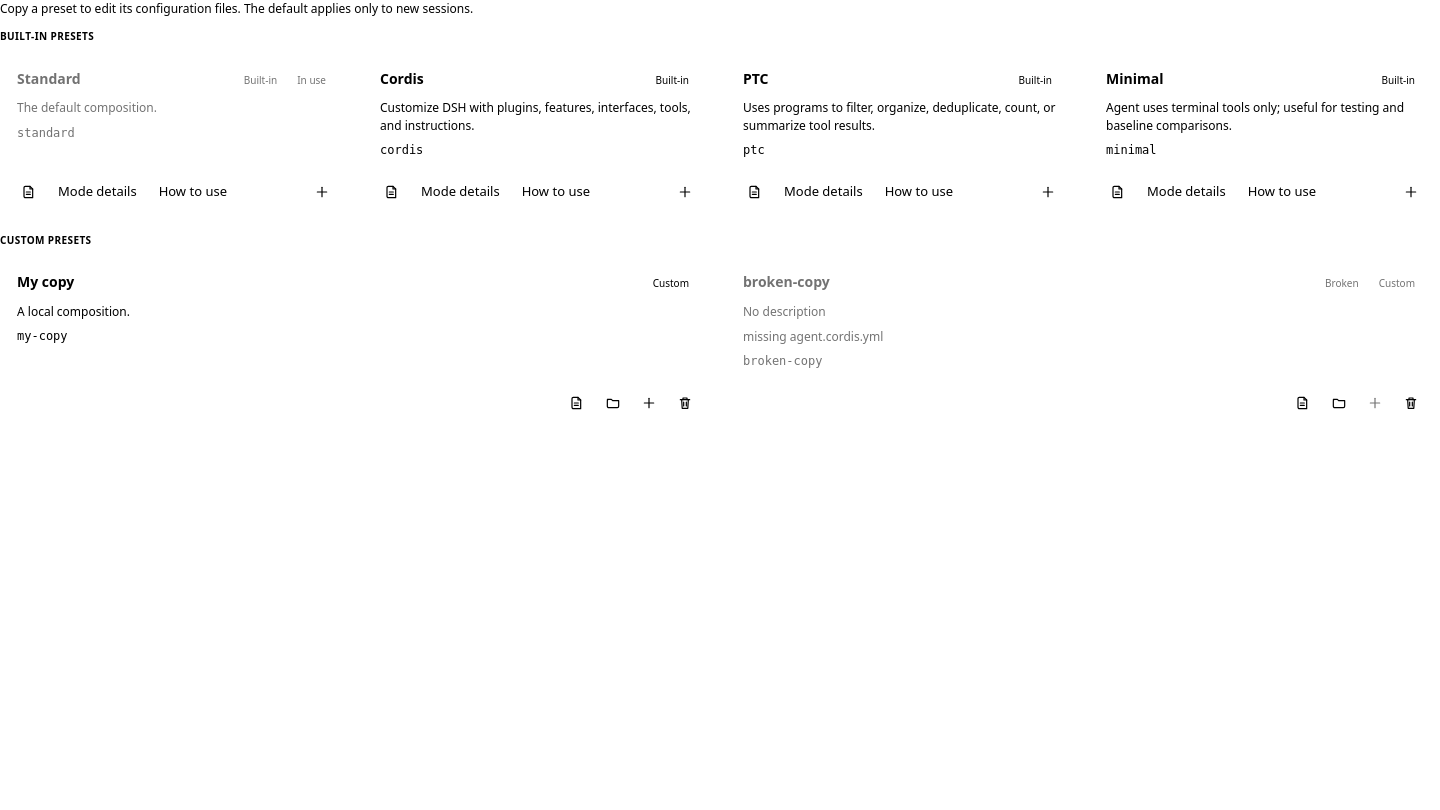
Scenario: PresetManager copy dialog › blocks an invalid or taken id client-side and never sends it
The width and height of the screenshot is (1440, 810).
Expected: the heading "Built-in presets" is shown, [0,29,94,43]
Click the button named "Copy preset: Standard": coordinates (322, 192) [306,176,338,208]
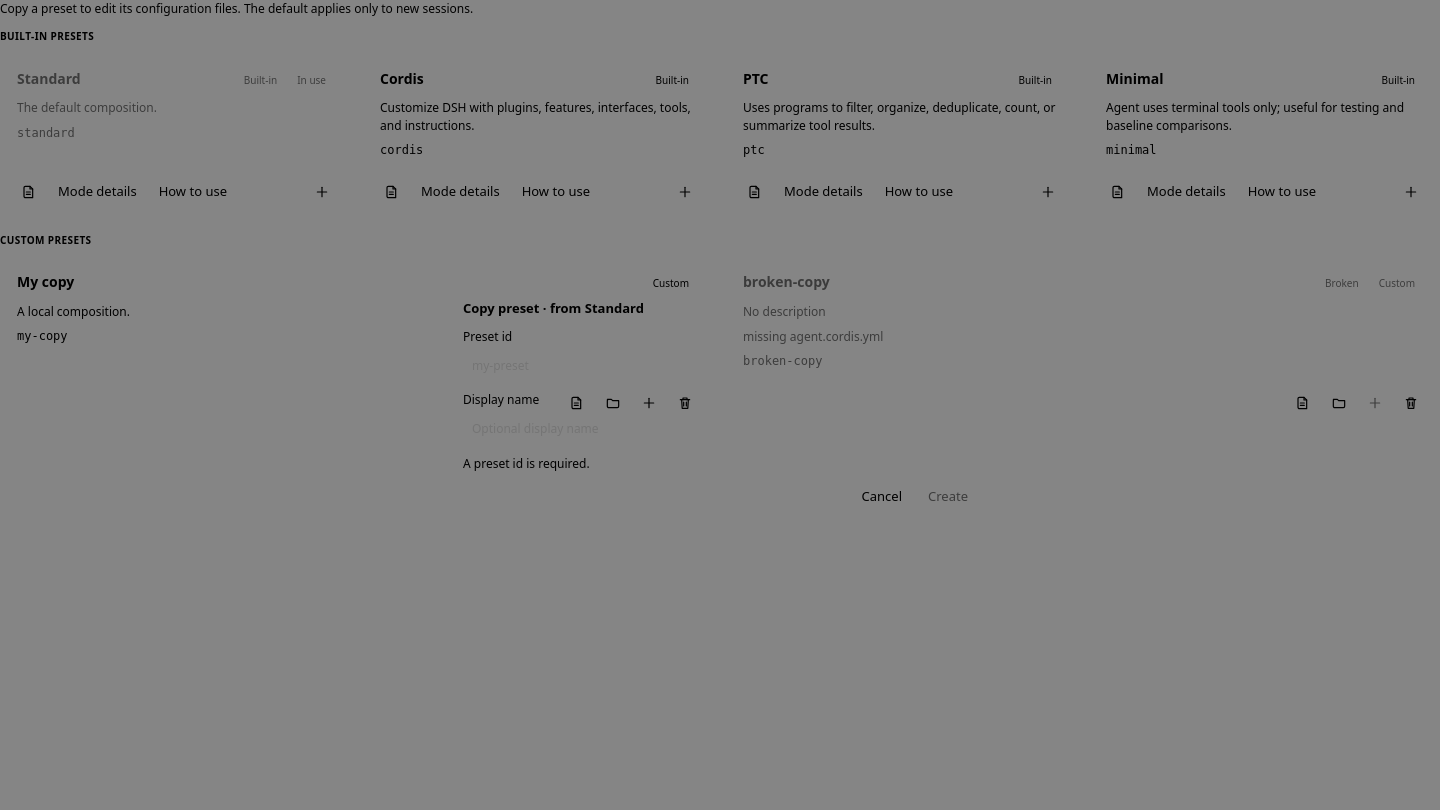
Expected: the dialog "Copy preset" is shown, [450,286,990,524]
Expected: the button "Create" is disabled, [919,482,977,511]
Invalid characters.
In the field labelled "Preset id": coordinates (720, 365) [463,349,977,381], type "My Copy!"
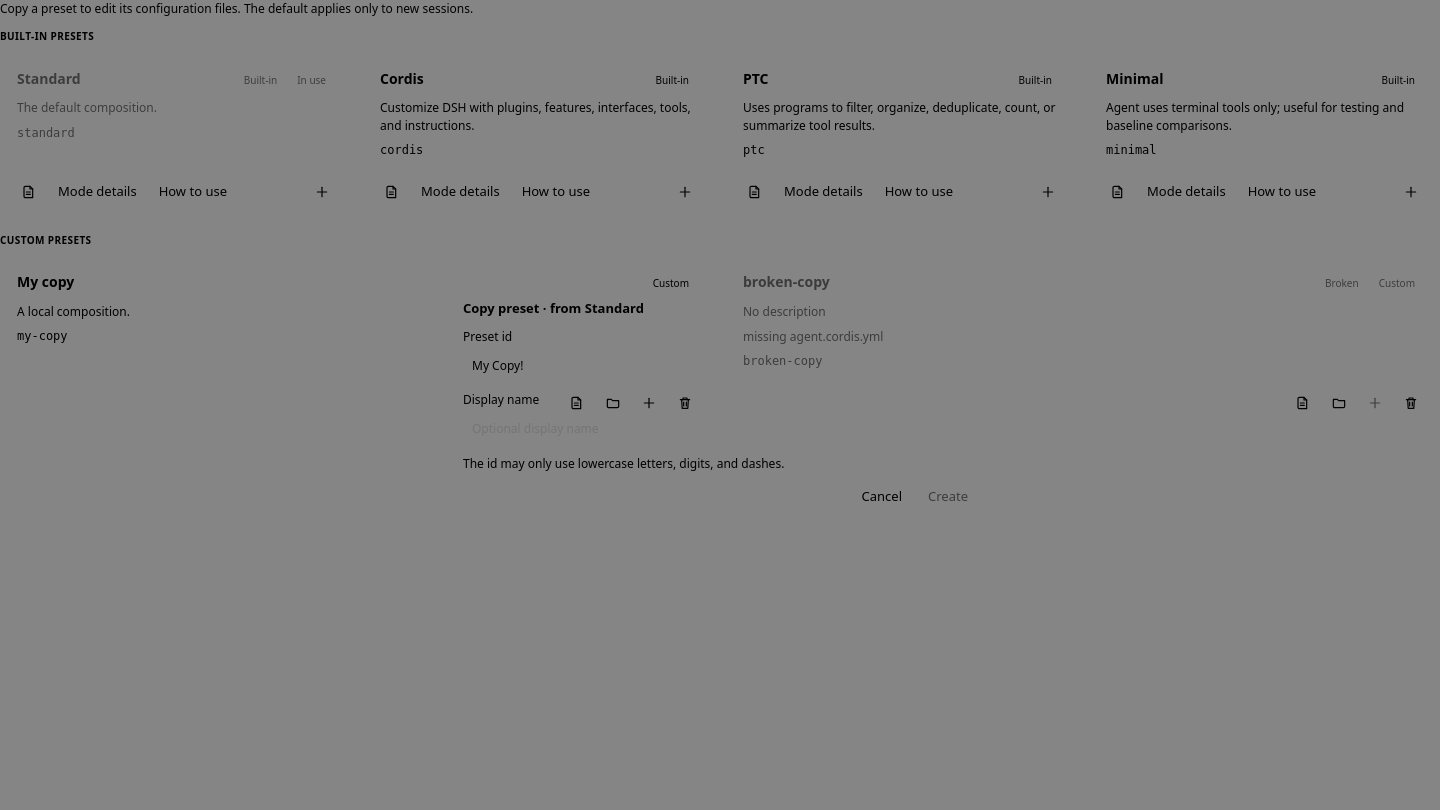
Expected: the button "Create" is disabled, [919,482,977,511]
Expected: the message shows "lowercase letters, digits, and dashes", [463,455,784,472]
An id already on the roster.
Replace the text in the field labelled "Preset id" with "cordis": coordinates (720, 365) [463,349,977,381]
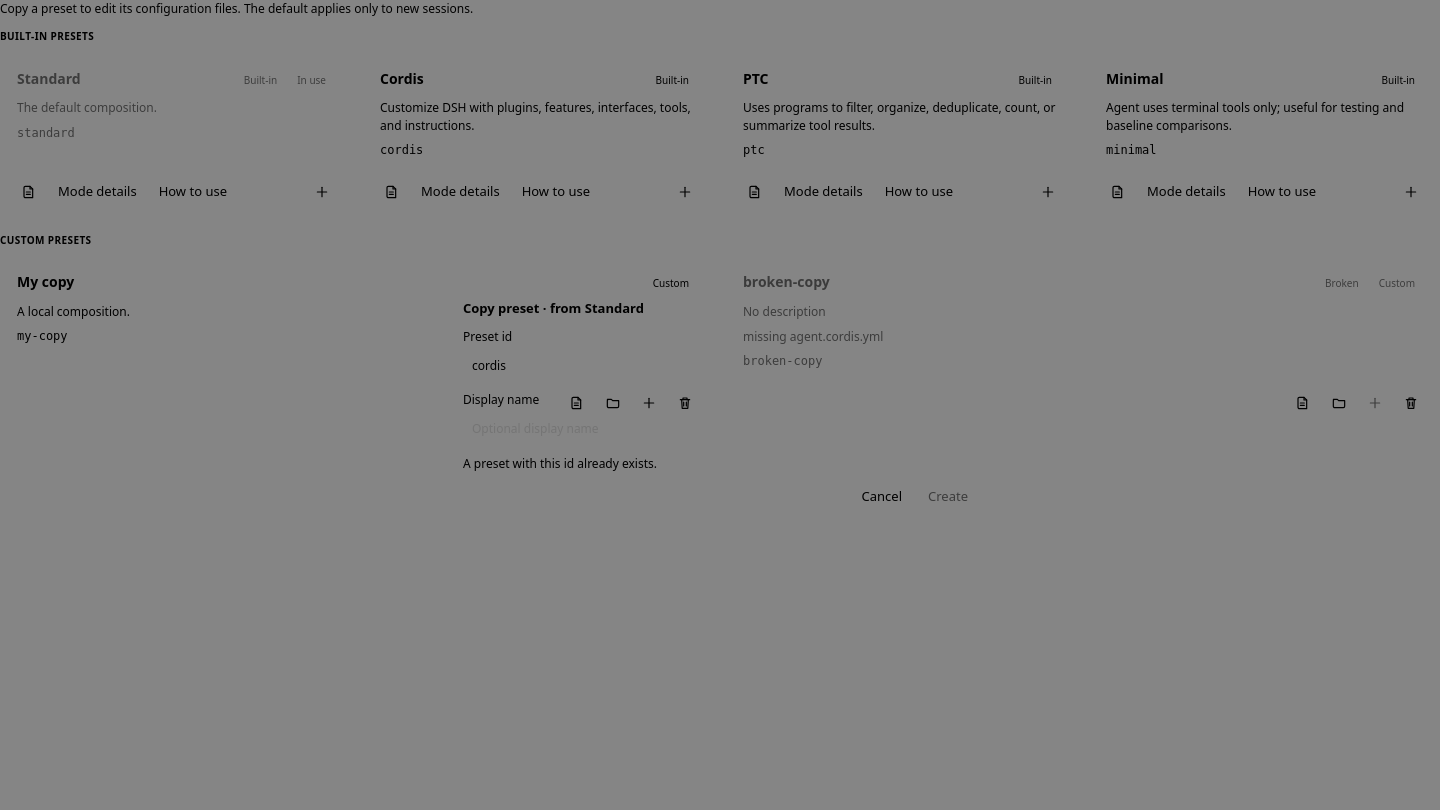
Expected: the message shows "already exists", [463,455,657,472]
